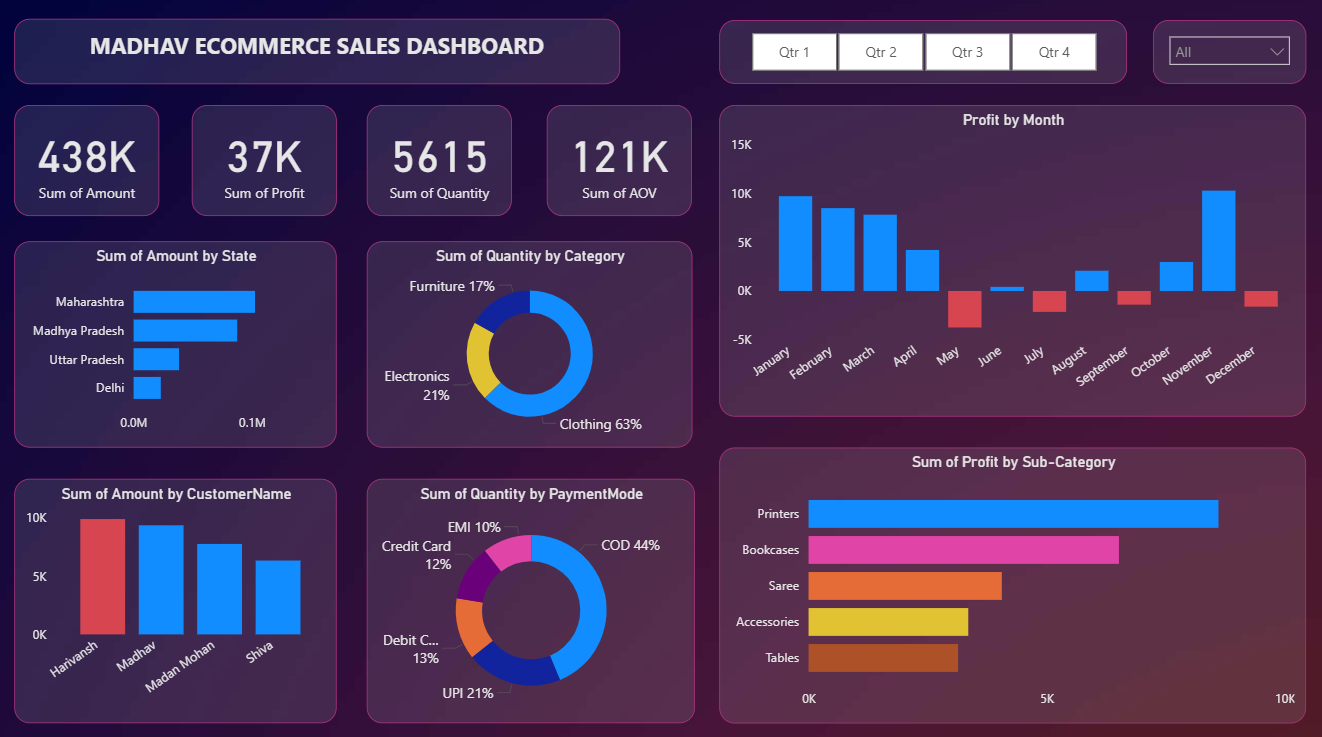

The page's visual inventory and layout, read from the dashboard file:
{"tool":"powerbi","page":{"name":"Page 1","canvas":[1280,720],"ordinal":0},"visuals":[{"type":"textbox","box":[15.1,23.3,584.6,63.1],"z":0},{"type":"columnChart","title":"Profit by Month","fields":{"Category":["Orders.Order Date.Variation.Date Hierarchy.Month"],"Y":["Details.Profit"]},"box":[695.7,105.7,566.7,300.5],"z":1000},{"type":"barChart","fields":{"Category":["Details.Sub-Category"],"Y":["Details.Profit"]},"box":[695.7,436.4,566.7,266.2],"z":2000},{"type":"donutChart","fields":{"Y":["Details.Quantity"],"Category":["Details.PaymentMode"]},"box":[355.4,466.6,317,236],"z":3000},{"type":"donutChart","fields":{"Category":["Details.Category"],"Y":["Details.Quantity"]},"box":[355.4,237.4,314.2,199],"z":4000},{"type":"card","fields":{"Values":["Details.Amount"]},"box":[15.1,105.7,140,107],"z":5000},{"type":"card","fields":{"Values":["Details.Profit"]},"box":[186.6,105.7,140,107],"z":6000},{"type":"card","fields":{"Values":["Details.Quantity"]},"box":[355.4,105.7,140,107],"z":7000},{"type":"card","fields":{"Values":["Details.AOV"]},"box":[529.7,105.7,140,107],"z":8000},{"type":"barChart","fields":{"Category":["Orders.State"],"Y":["Details.Amount"]},"box":[15.1,237.4,311.5,199],"z":9000},{"type":"columnChart","fields":{"Category":["Orders.CustomerName"],"Y":["Details.Amount"]},"box":[15.1,466.6,311.5,236],"z":10000},{"type":"slicer","fields":{"Values":["Orders.Order Date.Variation.Date Hierarchy.Quarter"]},"box":[695.7,24.7,393.8,61.7],"z":11000},{"type":"slicer","fields":{"Values":["Orders.State"]},"box":[1114.2,24.7,148.2,61.7],"z":12000}]}

Visuals, with their boxes in screenshot pixels (x1, y1, x2, y2), scaled from the page's 1280x720 canvas onto the 1322x737 screenshot:
textbox: Rect(16, 24, 619, 88)
"Profit by Month" columnChart: Rect(719, 108, 1304, 416)
barChart - Details.Sub-Category x Details.Profit: Rect(719, 447, 1304, 719)
donutChart - Details.Quantity x Details.PaymentMode: Rect(367, 478, 694, 719)
donutChart - Details.Category x Details.Quantity: Rect(367, 243, 692, 447)
card - Details.Amount: Rect(16, 108, 160, 218)
card - Details.Profit: Rect(193, 108, 337, 218)
card - Details.Quantity: Rect(367, 108, 512, 218)
card - Details.AOV: Rect(547, 108, 692, 218)
barChart - Orders.State x Details.Amount: Rect(16, 243, 337, 447)
columnChart - Orders.CustomerName x Details.Amount: Rect(16, 478, 337, 719)
slicer - Orders.Order Date.Variation.Date Hierarchy.Quarter: Rect(719, 25, 1125, 88)
slicer - Orders.State: Rect(1151, 25, 1304, 88)
